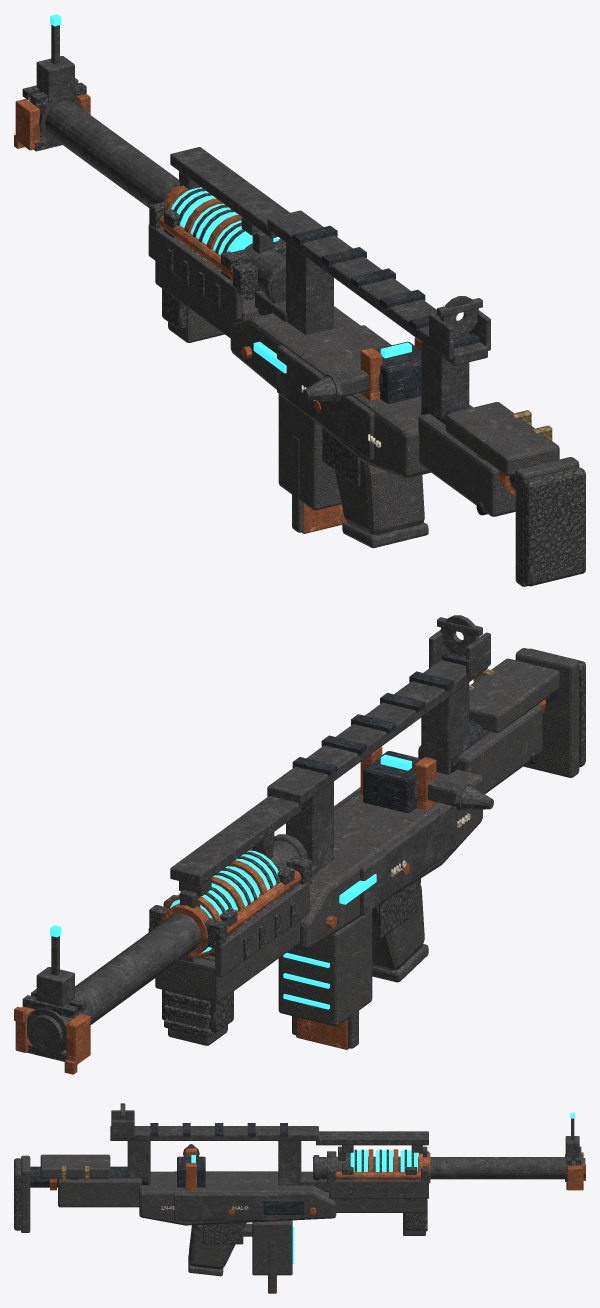
Rendered from halo.gltf.
3 views of the same model, one above another, from view 1: azimuth 30°, elevation 25°; view 2: azimuth 150°, elevation 25°; view 3: azimuth 270°, elevation 25° (orthographic). The views are drawn at different scales.
Visible parts, largest first — view 1: body, mag, bolt, factory-optic; view 2: body, mag, bolt, factory-optic; view 3: body, mag, factory-optic, bolt.
Boxes of the visible parts, x1=… form: body: x1=14, y1=78, x2=585, y2=586; mag: x1=278, y1=394, x2=346, y2=533; bolt: x1=303, y1=337, x2=421, y2=403; factory-optic: x1=36, y1=14, x2=490, y2=360; body: x1=14, y1=648, x2=585, y2=1074; mag: x1=278, y1=910, x2=372, y2=1049; bolt: x1=360, y1=746, x2=493, y2=812; factory-optic: x1=36, y1=615, x2=490, y2=1006; body: x1=14, y1=1123, x2=585, y2=1276; mag: x1=252, y1=1220, x2=294, y2=1293; factory-optic: x1=111, y1=1103, x2=579, y2=1160; bolt: x1=177, y1=1144, x2=205, y2=1190.
Size of the model in its own units: 0.154 by 0.346 by 0.987.
Materials: 8 (7 with a texture image).
